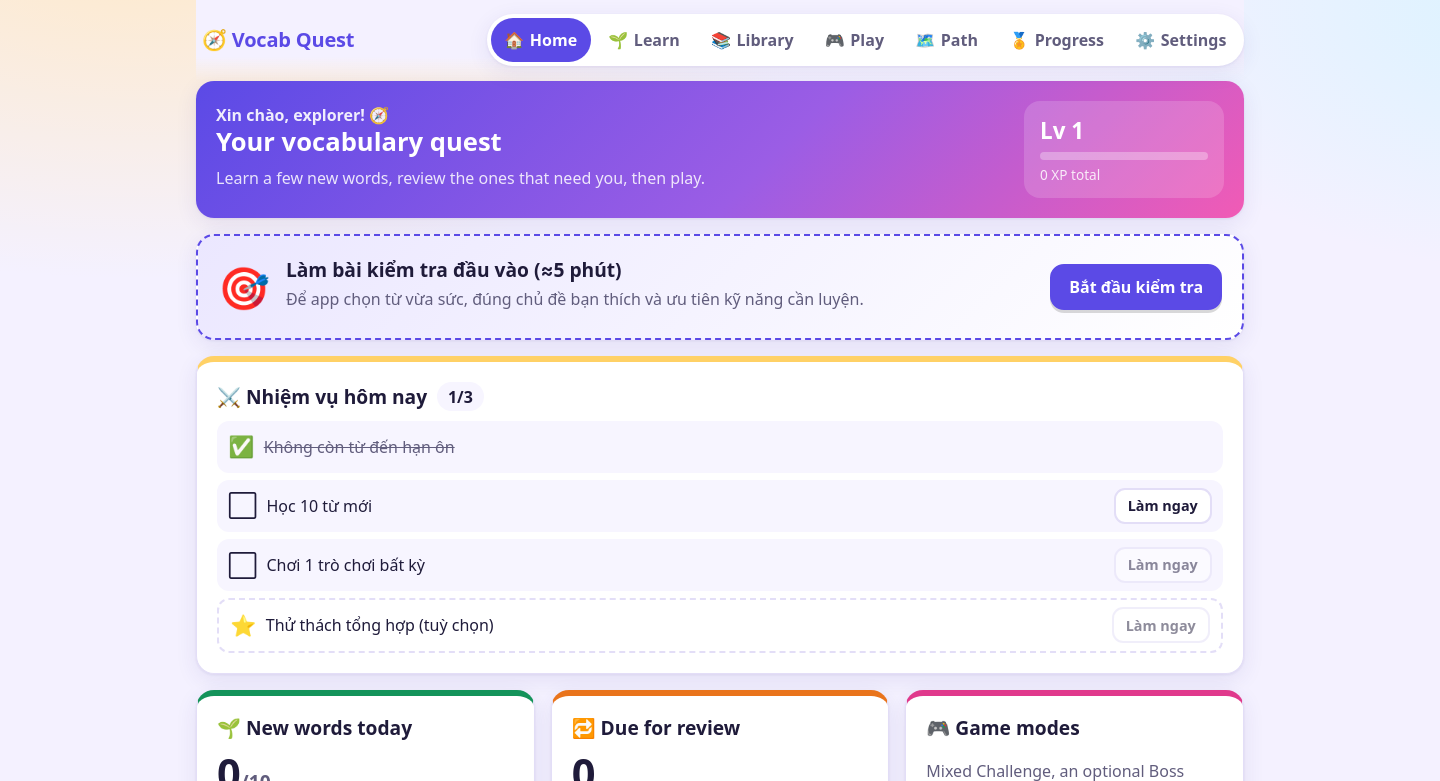
Test: App end-to-end loop (jsdom) › a correct multiple-choice answer via keyboard scores and shows feedback
The width and height of the screenshot is (1440, 781).
Click the button "📚 Library" at coordinates (752, 40), box [697,18,807,62]
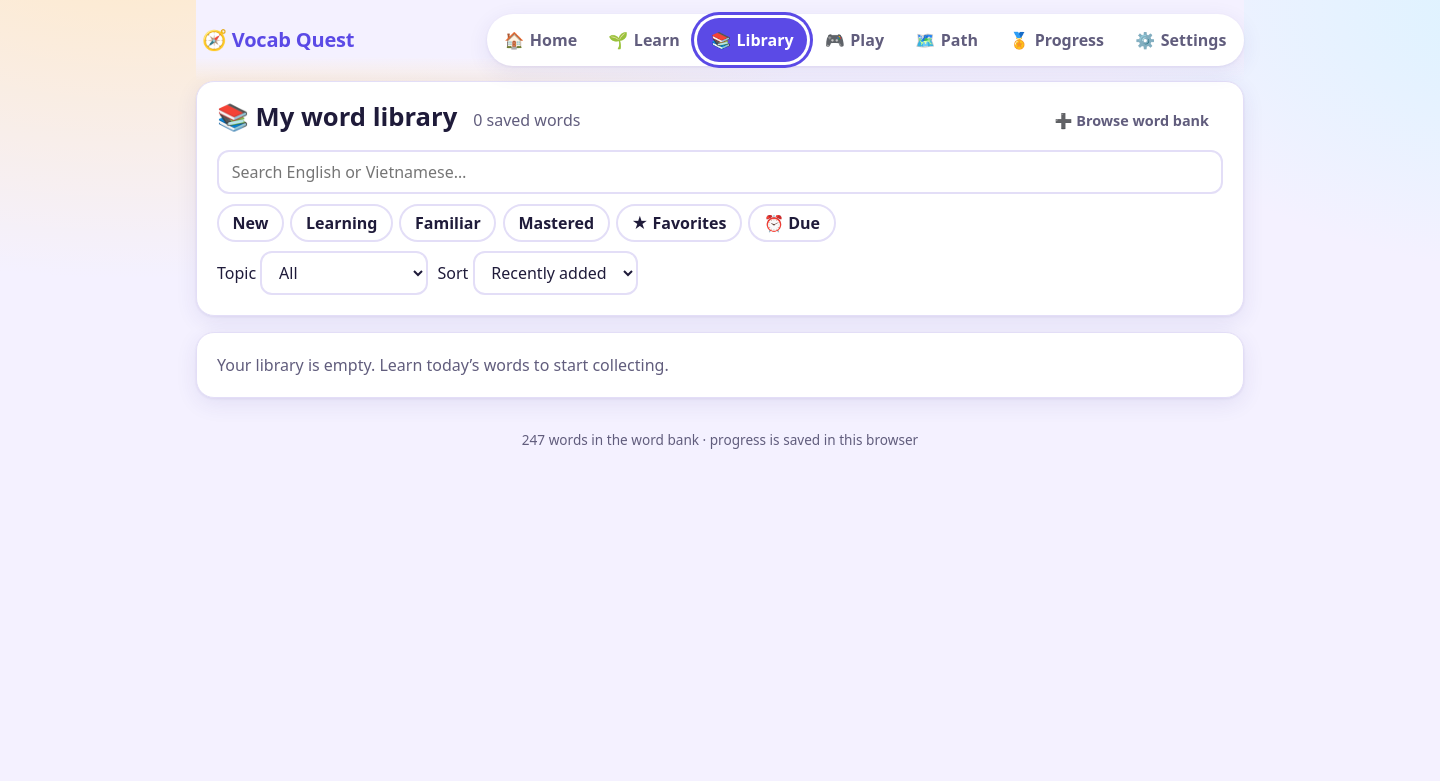
Click the button "➕ Browse word bank" at coordinates (1132, 121), box [1040,103,1223,139]
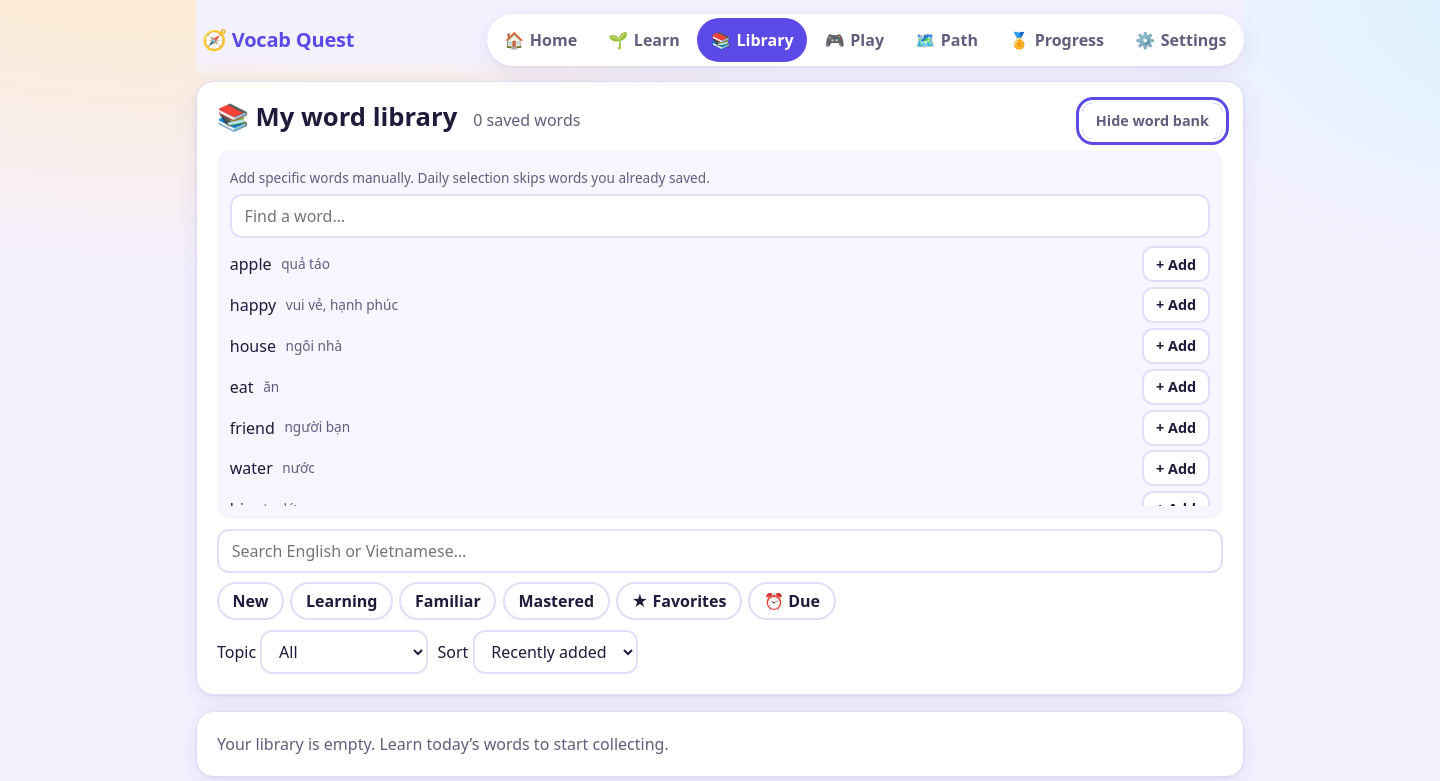
Click the button with aria-label "Add apple" at coordinates (1176, 264), box [1142,246,1210,282]
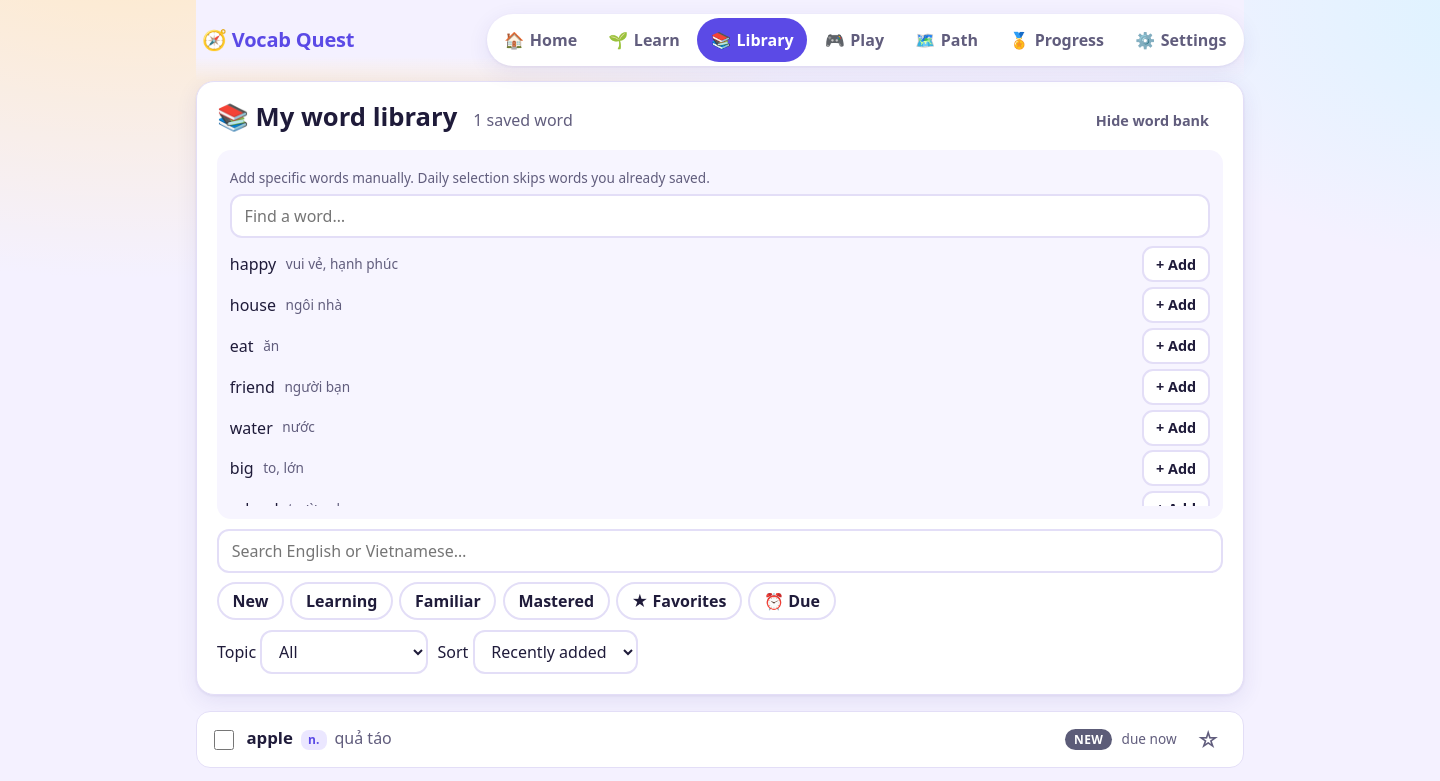
Click the button "🎮 Play" at coordinates (854, 40), box [811,18,898,62]
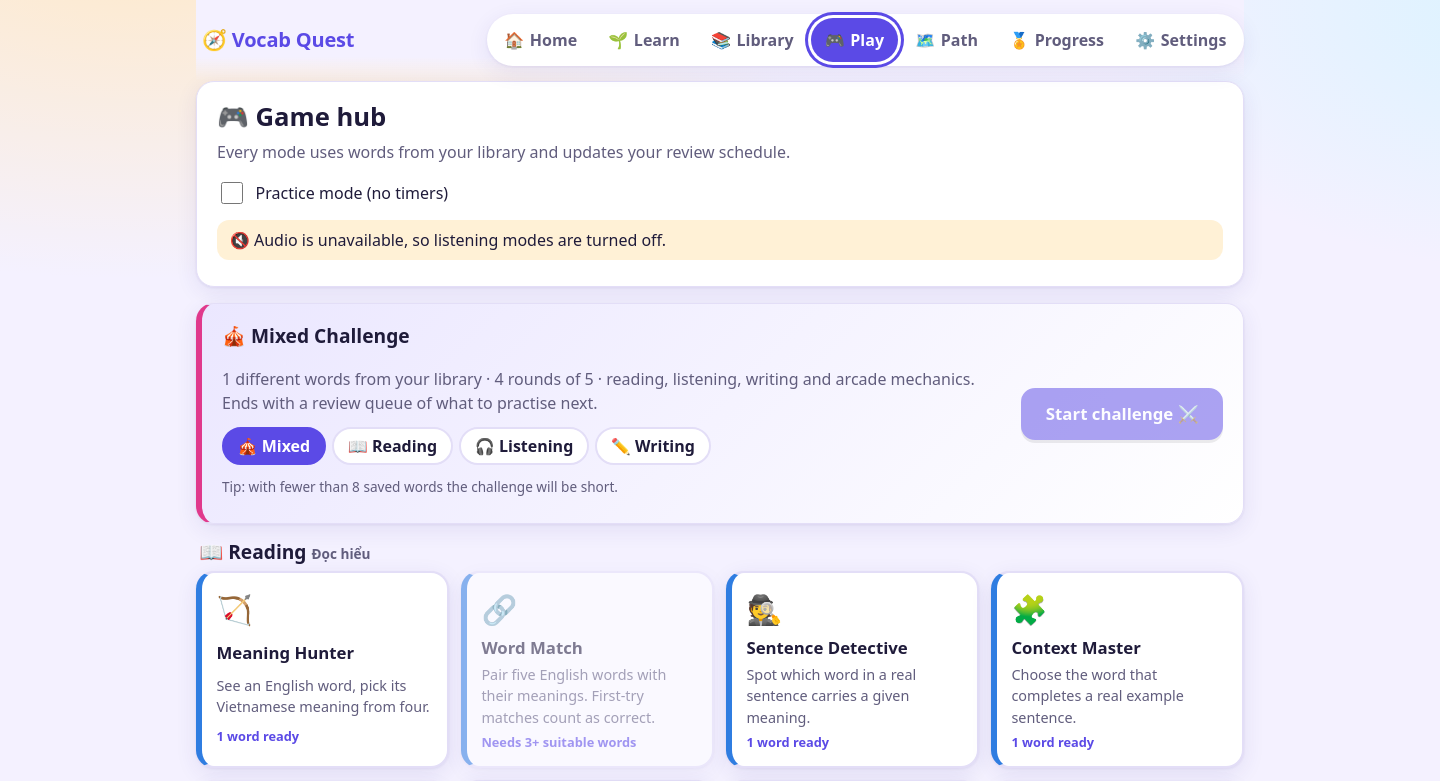
Click the button "Meaning Hunter" at coordinates (322, 670), box [196,571,449,768]
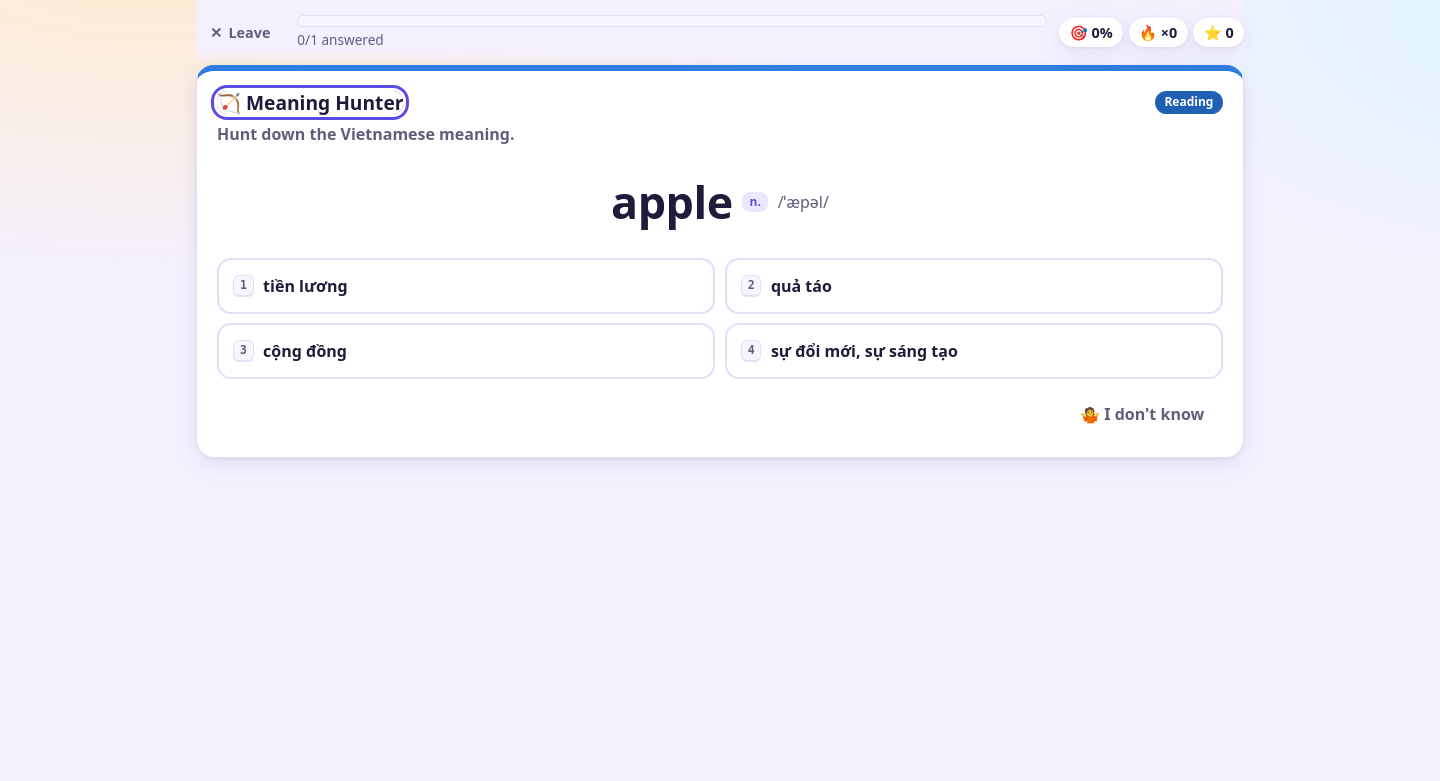
Type keys "2"
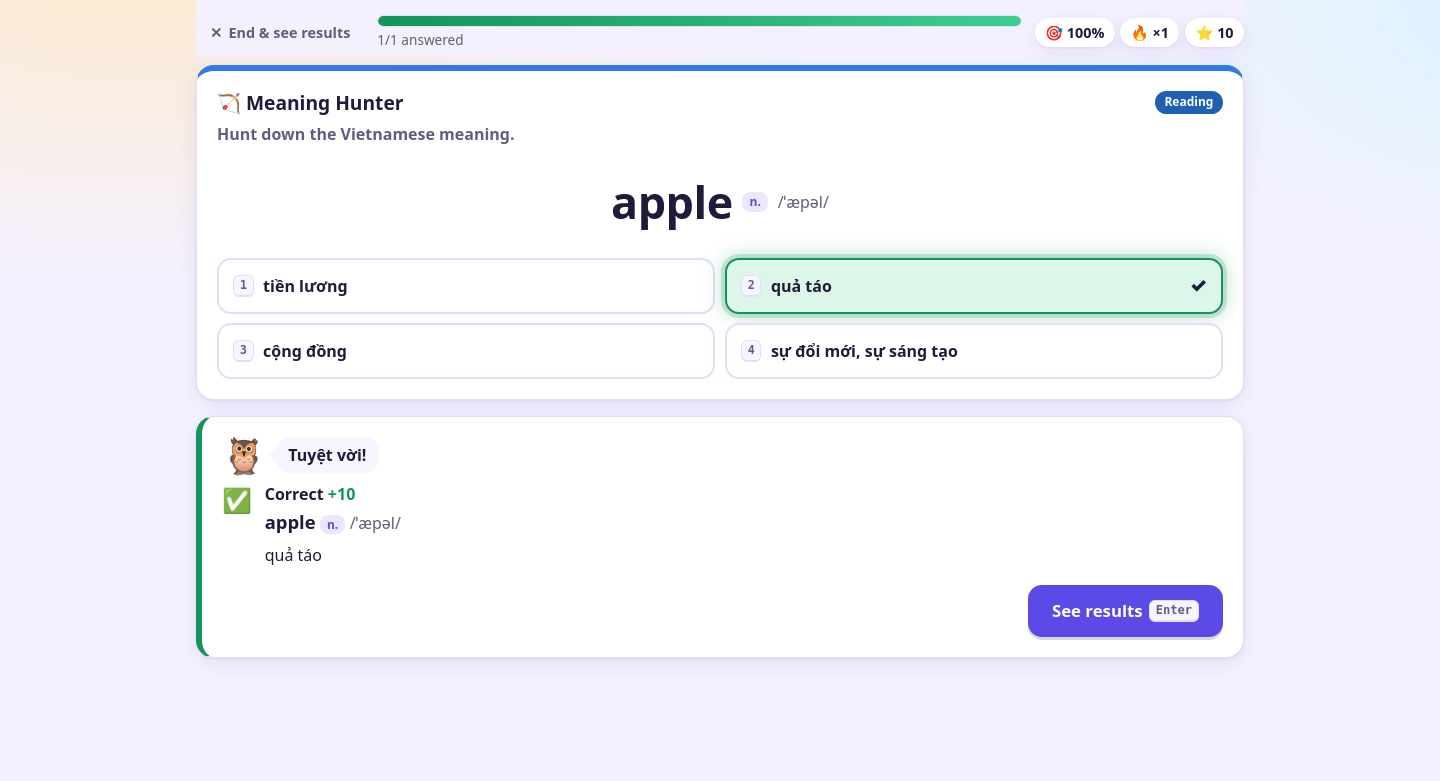
Result: the text "Correct" is shown at [265,483,324,505]
Result: the text "+10" is shown at [324,483,355,505]
